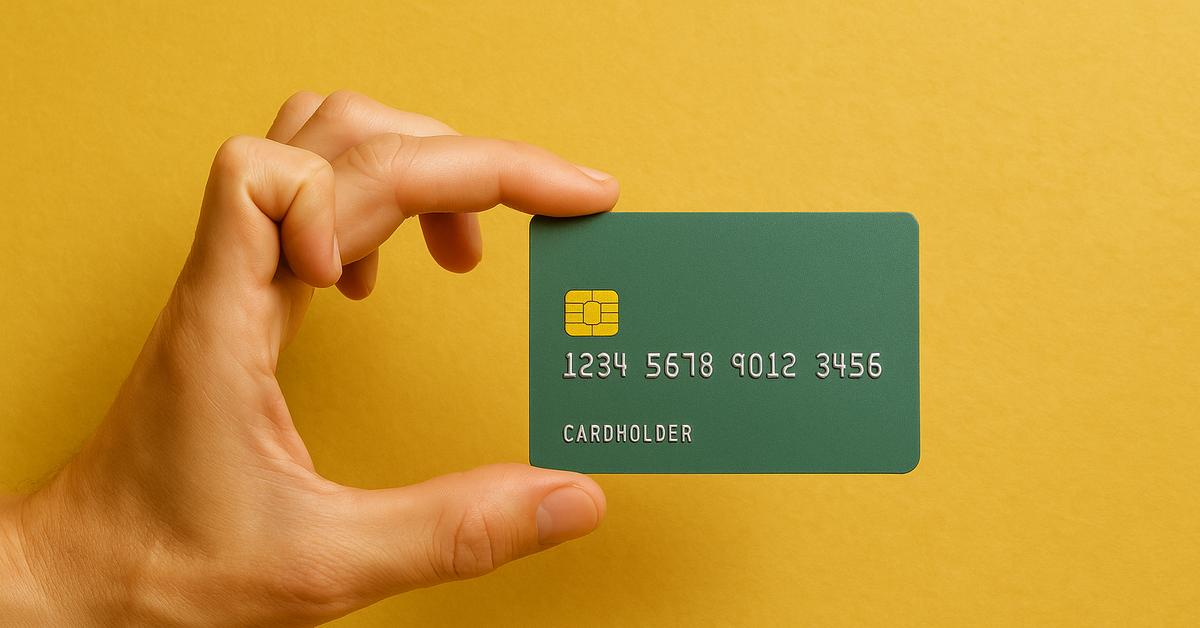Credit_card: (530, 213, 919, 473)
